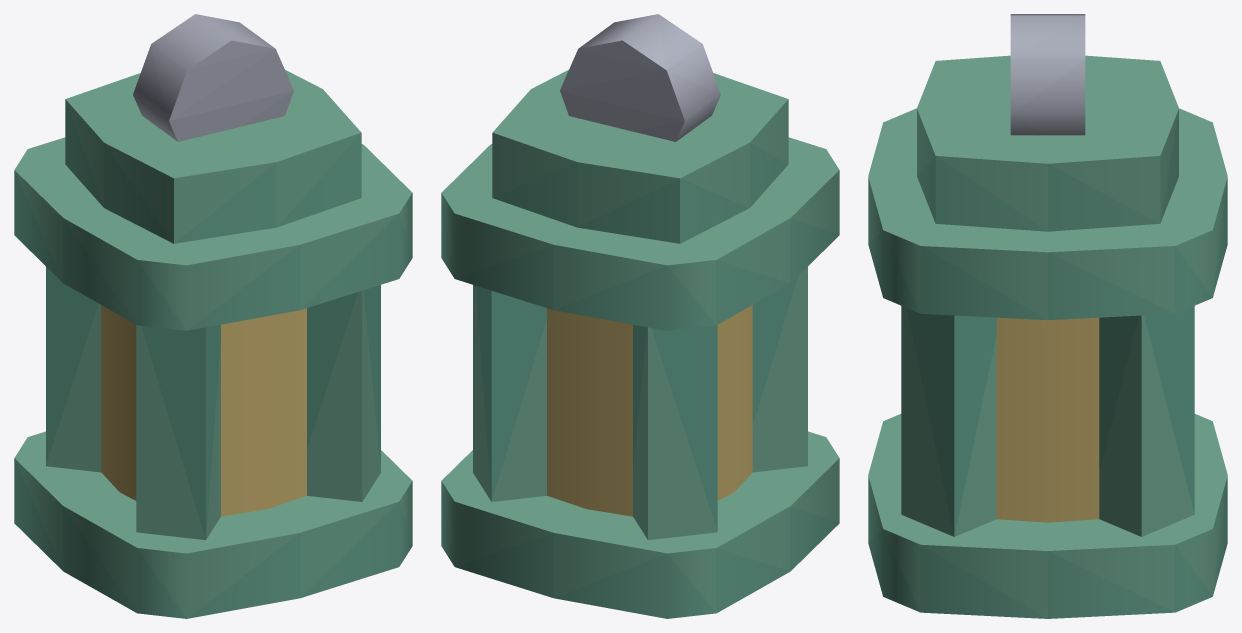
The model's file is kgy_lantern-glass.fbx.
3 views of the same model, side by side, from view 1: azimuth 30°, elevation 25°; view 2: azimuth 150°, elevation 25°; view 3: azimuth 270°, elevation 25° (orthographic). The views are drawn at different scales.
Visible parts, largest first — view 1: lantern-glass; view 2: lantern-glass; view 3: lantern-glass.
Boxes of the visible parts, <box> form: lantern-glass: <box>14,14,412,618</box>; lantern-glass: <box>441,14,839,618</box>; lantern-glass: <box>868,14,1227,618</box>.
Size of the model in its own units: 24 by 38.77 by 24.
